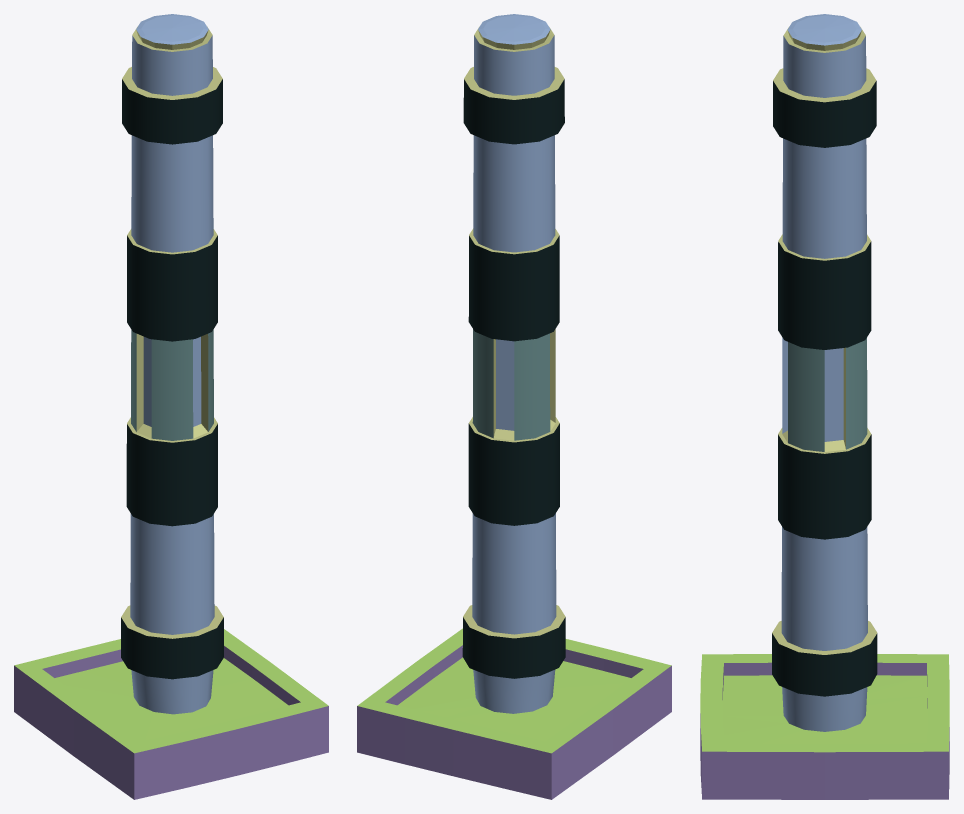
Rendered from ganchotemplo.fbx.
3 renders of one model, left to right at view 1: azimuth 30°, elevation 25°; view 2: azimuth 150°, elevation 25°; view 3: azimuth 270°, elevation 25°, orthographic. The views are drawn at different scales.
Parts seen in each view (by area): view 1: Cylinder002; view 2: Cylinder002; view 3: Cylinder002.
Boxes of the visible parts, box(x1,y1,x2,y2) form: Cylinder002: box(14, 14, 328, 799); Cylinder002: box(357, 14, 671, 799); Cylinder002: box(700, 14, 949, 799).
Bounding box in the file's own units: 19.68 × 67.45 × 21.1.
